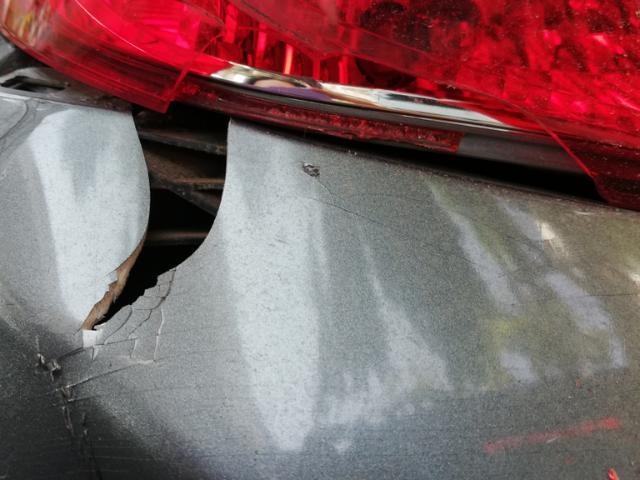Bumper: (0, 90, 285, 436)
